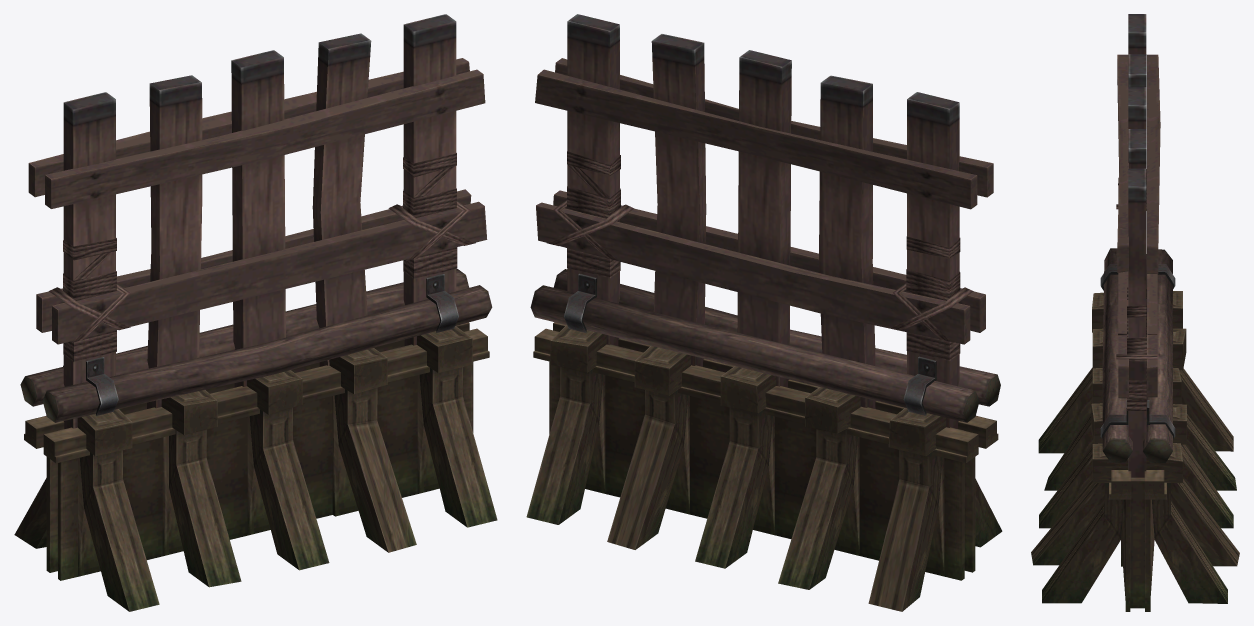
3 views of the same model, side by side, from view 1: azimuth 30°, elevation 25°; view 2: azimuth 150°, elevation 25°; view 3: azimuth 270°, elevation 25° (orthographic). The views are drawn at different scales.
Visible parts, largest first — view 1: ZL; view 2: ZL; view 3: ZL.
Boxes of the visible parts, x1,y1,x2,y2 form: ZL: (14, 14, 497, 611); ZL: (526, 14, 1002, 611); ZL: (1031, 14, 1239, 611).
Bounding box in the file's own units: 400 × 410 × 183.
